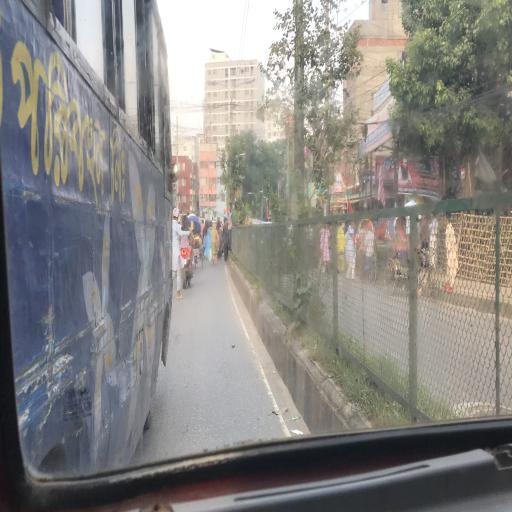motorbike: (180, 217, 191, 289)
rickshaw: (191, 215, 205, 272)
